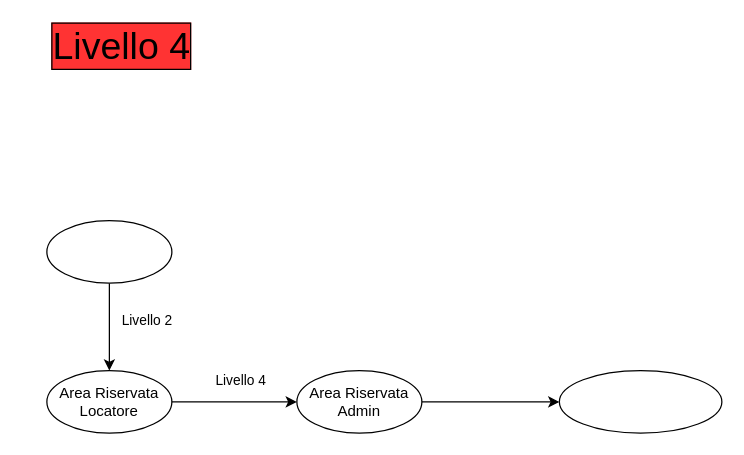
This 744x455 diagram has some shape labels left out. The shapes that lost their labels are listed below. From the top down, each one's centre as x and y in pixels, then its label:
(109,251): Login
(640,401): Visualizzazione Dati Statistici
